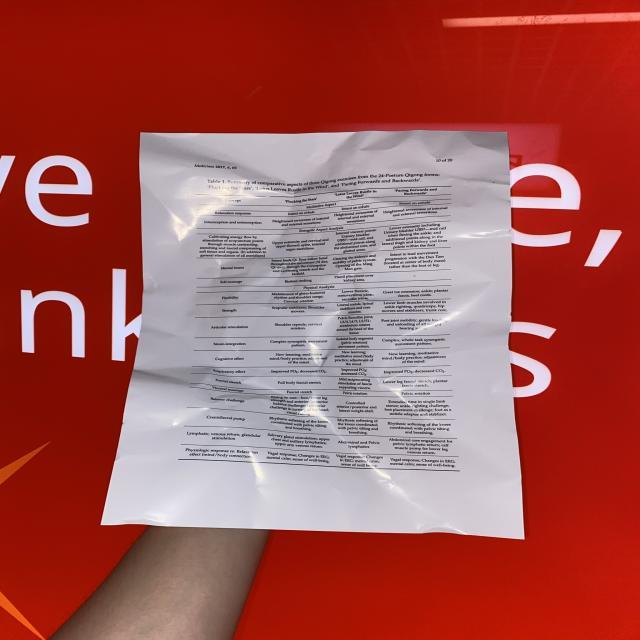document: (102, 130, 525, 539)
